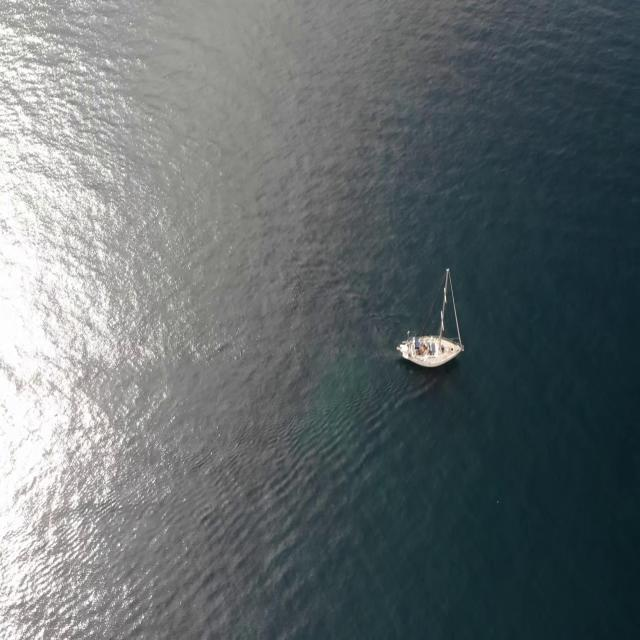sailboat: (394, 266, 466, 372)
